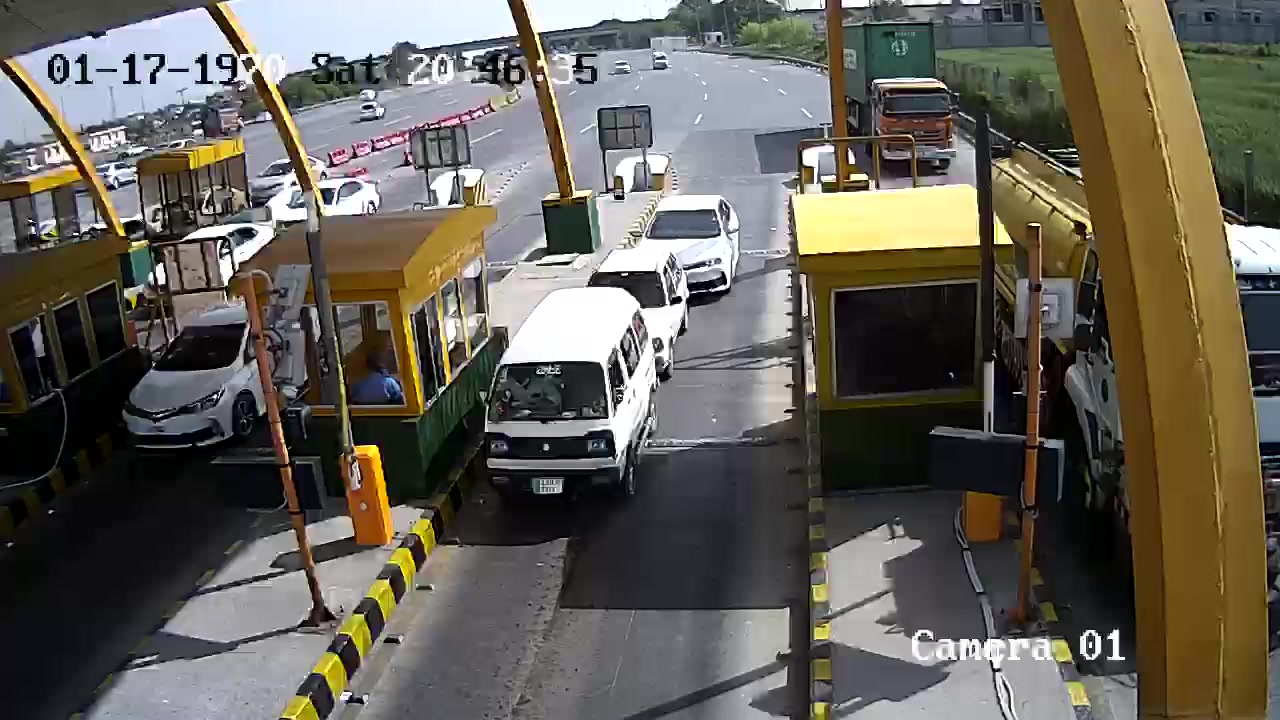F1: (475, 282, 655, 517)
